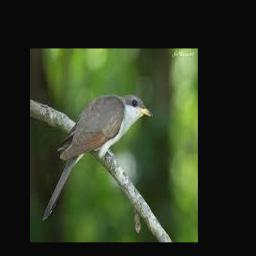Cuckoo: (42, 93, 153, 220)
